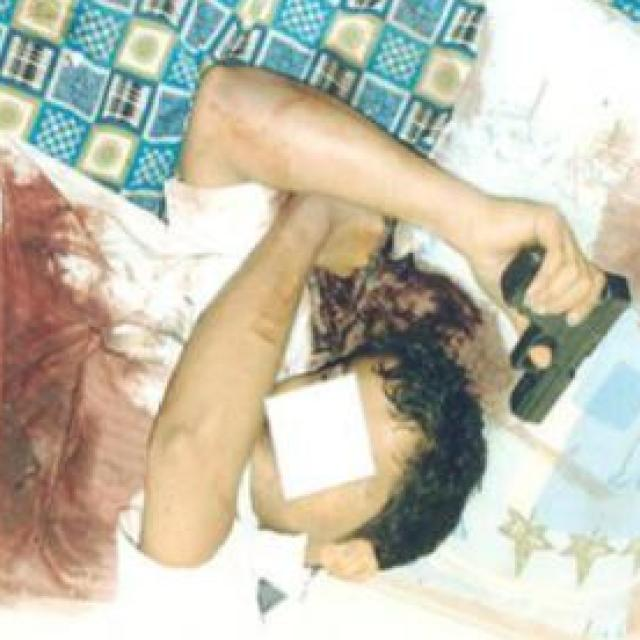pistol: (500, 240, 628, 429)
